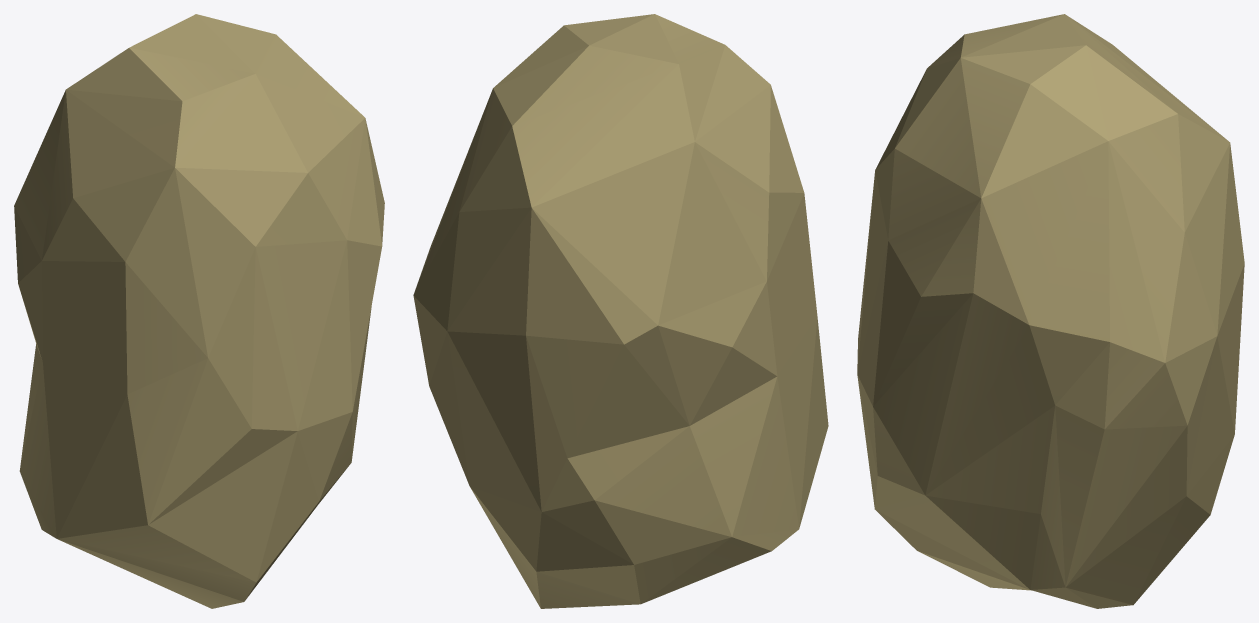
File: SM_small_rock_06.fbx
The picture shows the model from 3 angles, left to right: view 1: azimuth 30°, elevation 25°; view 2: azimuth 150°, elevation 25°; view 3: azimuth 270°, elevation 25°; orthographic projection.
Parts seen in each view (by area): view 1: small_rock_06; view 2: small_rock_06; view 3: small_rock_06.
Boxes of the visible parts, x1,y1,x2,y2 form: small_rock_06: [14, 14, 384, 608]; small_rock_06: [413, 14, 828, 608]; small_rock_06: [857, 14, 1244, 608].
Size of the model in its own units: 62.76 by 103 by 64.73.
